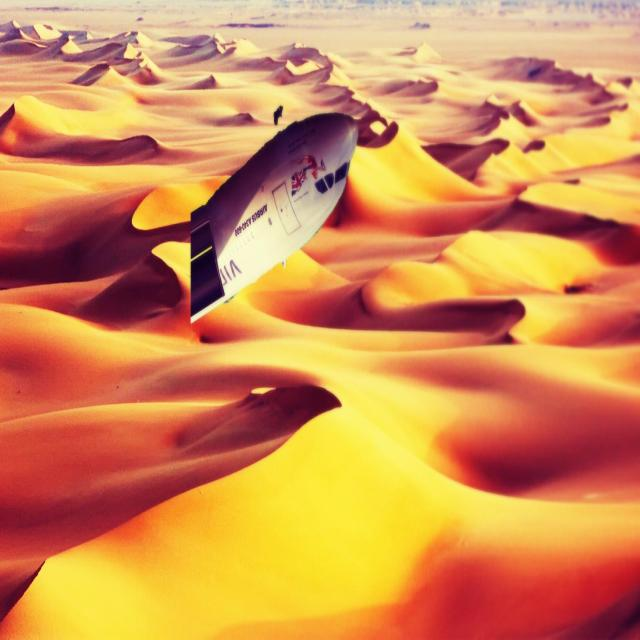airplane: (190, 109, 359, 324)
